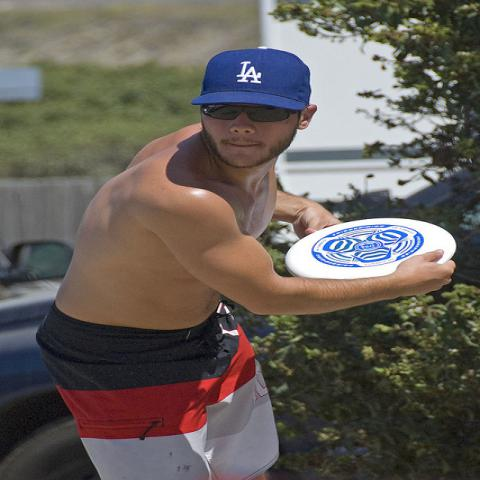car: (0, 239, 102, 474)
